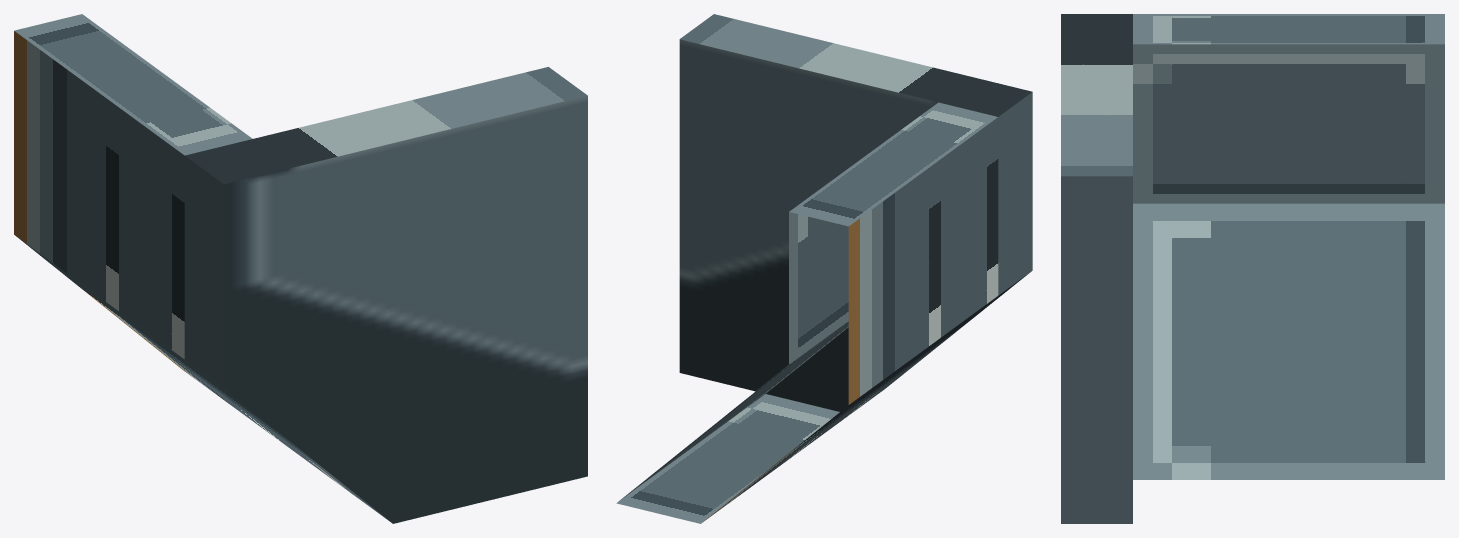
File: casing_d5_rear_x-2_y-1.obj
3 renders of one model, left to right at view 1: azimuth 30°, elevation 25°; view 2: azimuth 150°, elevation 25°; view 3: azimuth 270°, elevation 25°, orthographic. The views are drawn at different scales.
Visible parts, largest first — view 1: d5_rear_x-2_y-1; view 2: d5_rear_x-2_y-1; view 3: d5_rear_x-2_y-1.
Boxes of the visible parts, x1,y1,x2,y2 form: d5_rear_x-2_y-1: (14, 14, 587, 523); d5_rear_x-2_y-1: (616, 14, 1032, 523); d5_rear_x-2_y-1: (1061, 14, 1444, 523).
Bounding box in the file's own units: 1 × 1 × 1.
